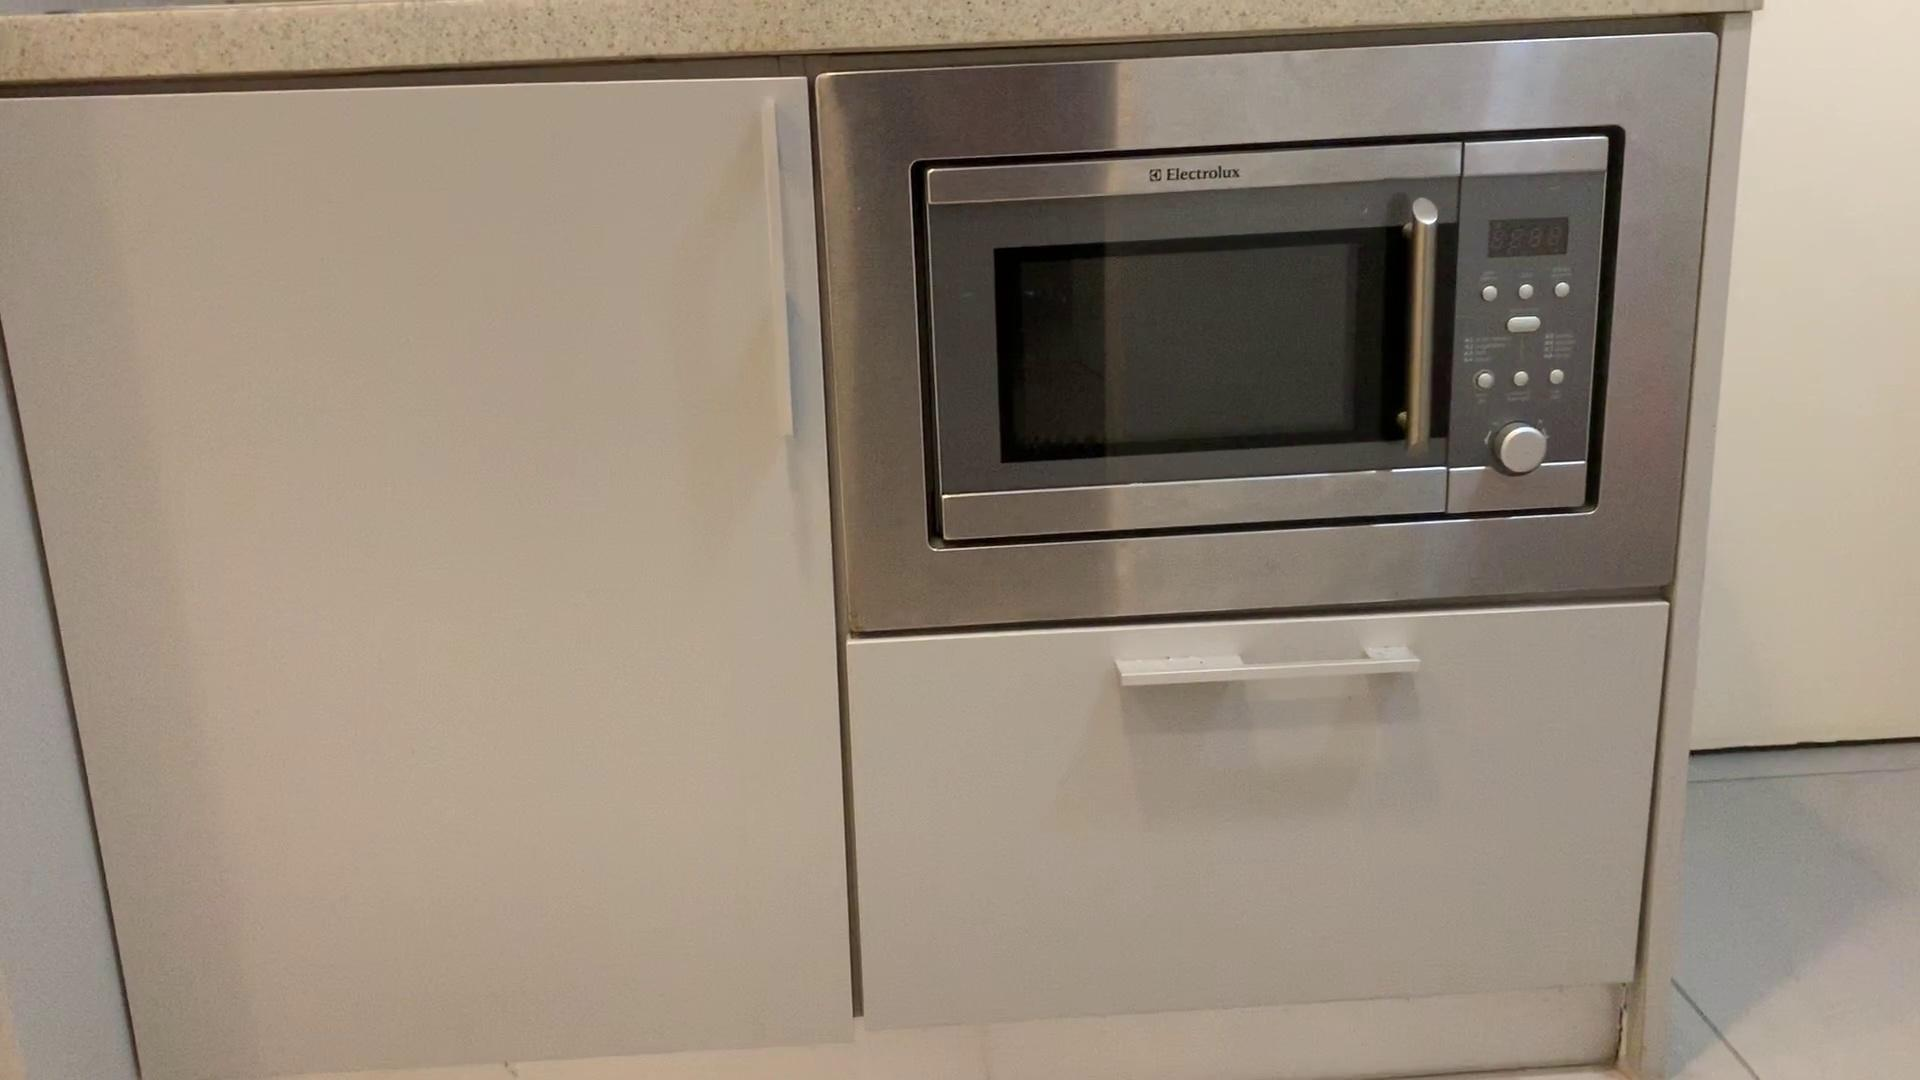cabinet_door: (74, 80, 828, 1080), (861, 621, 1656, 984)
handle: (748, 96, 818, 460), (1105, 637, 1439, 692), (1394, 199, 1458, 454)
